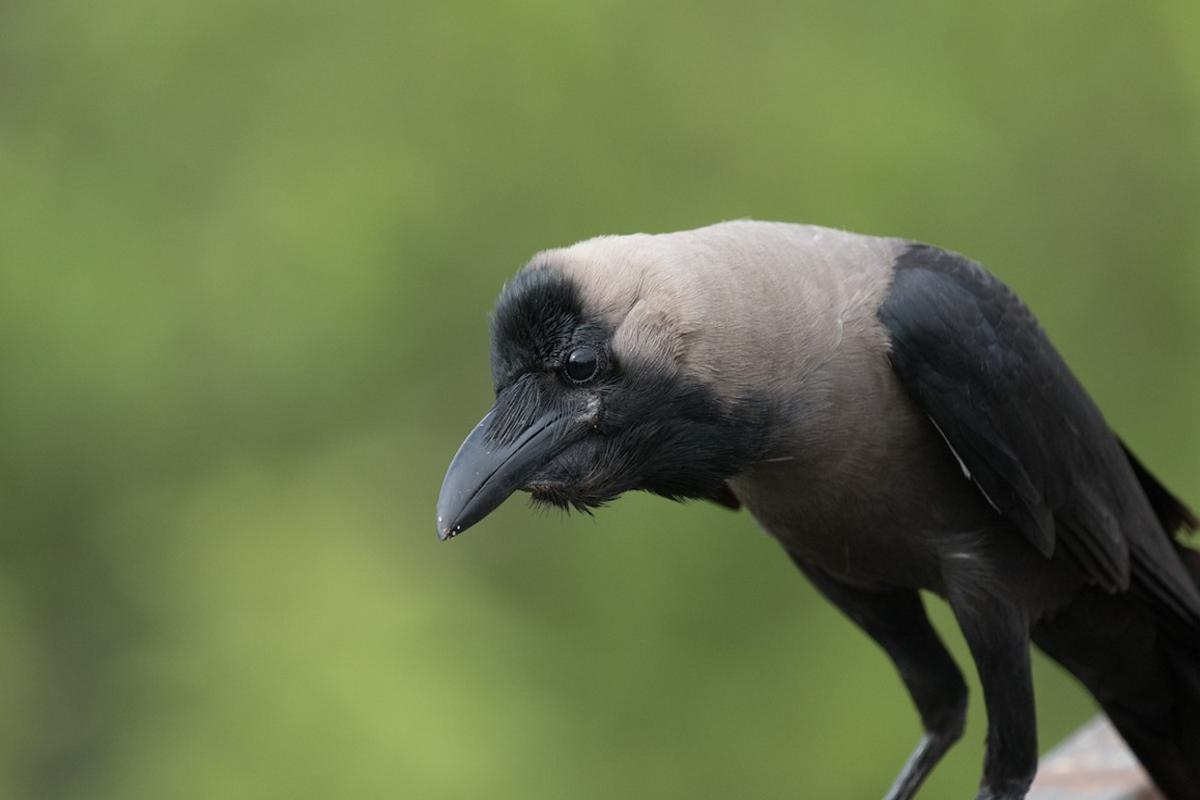crow: (431, 209, 1193, 785)
